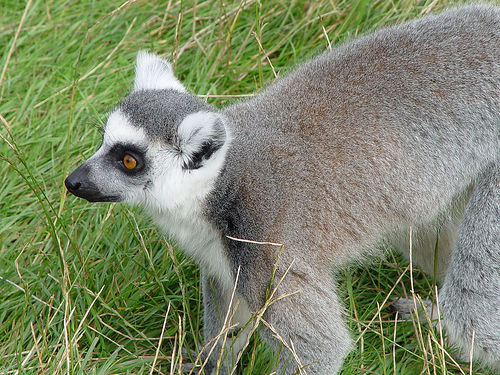cat: (63, 4, 499, 374)
